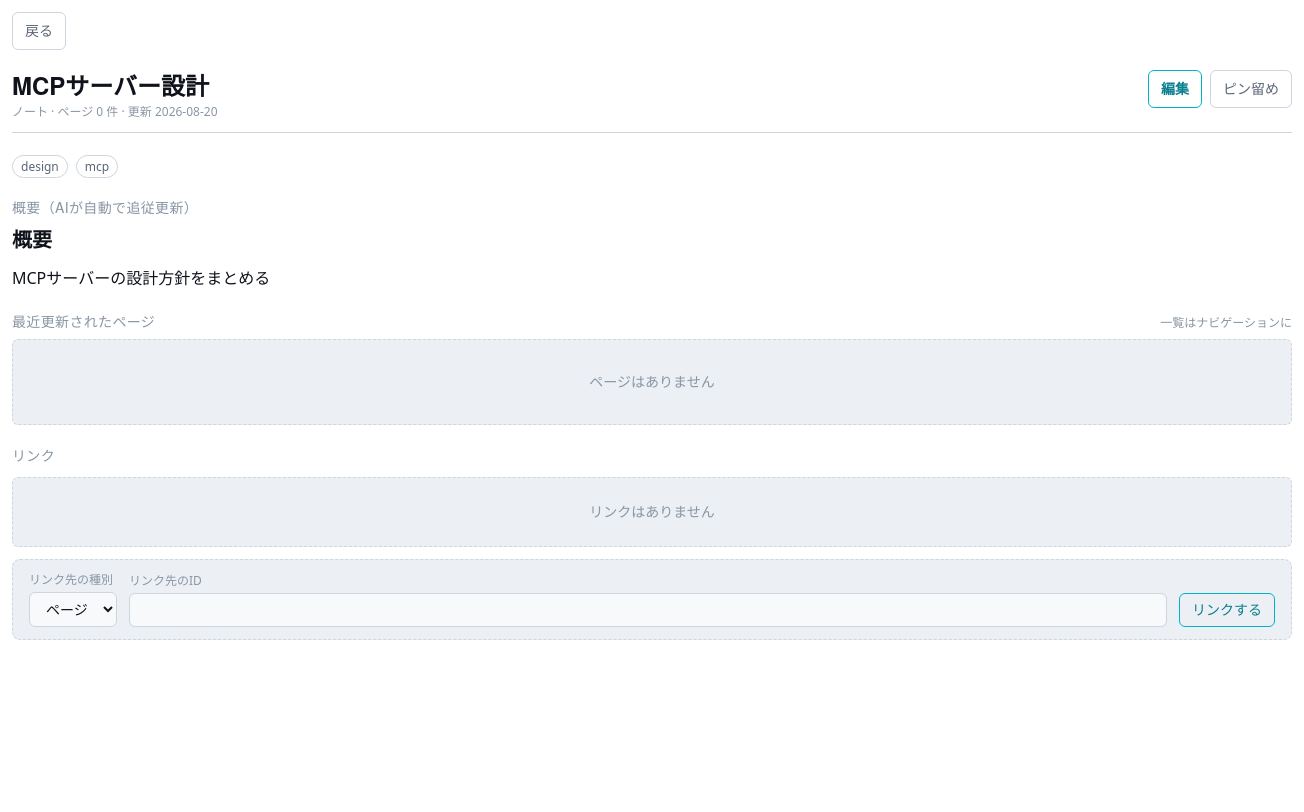
Test case: NotebookDetail › 保存の前に始まった取り直しが後から届いても保存結果を打ち消さない
The image size is (1304, 812).
Step 1. Click the button "編集" → point(1175, 89), box left=1148, top=70, right=1202, bottom=108
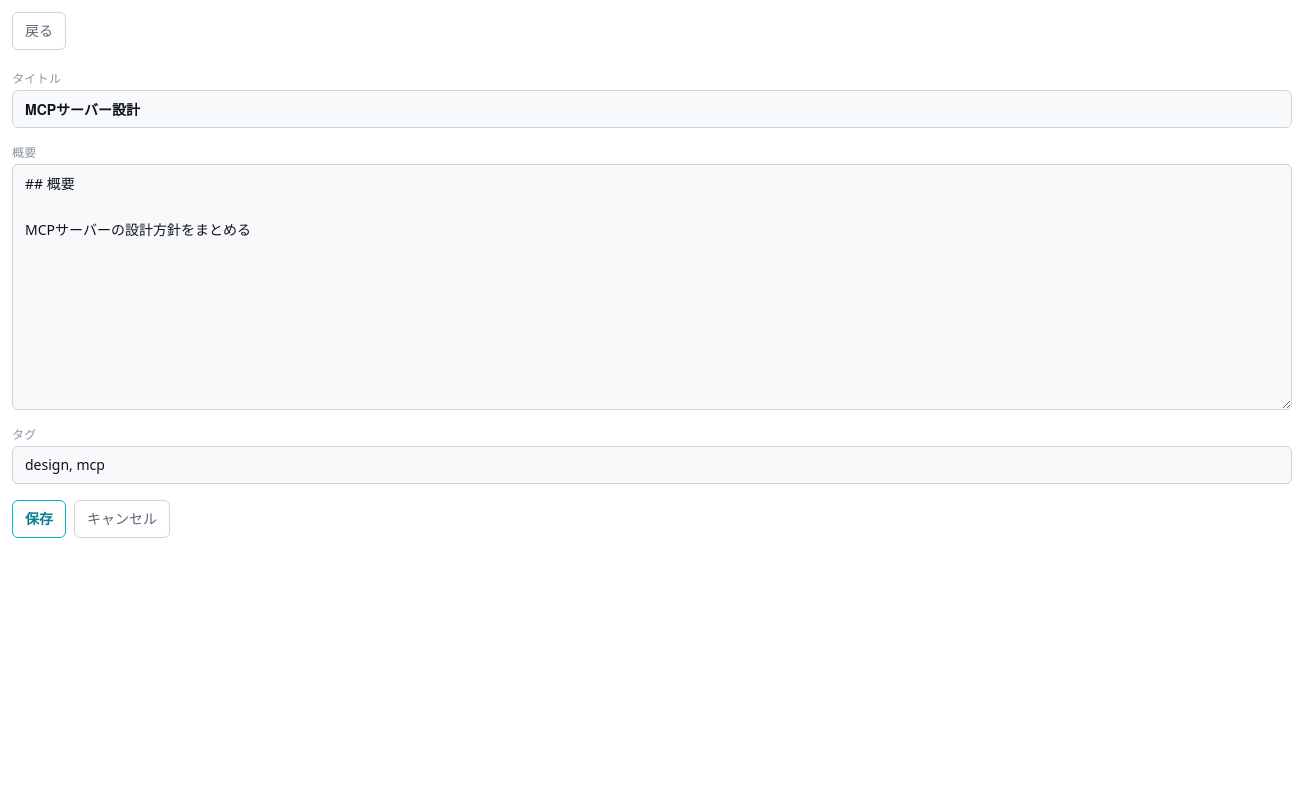
Step 2. Click the button "保存" → point(39, 518), box left=12, top=500, right=66, bottom=538
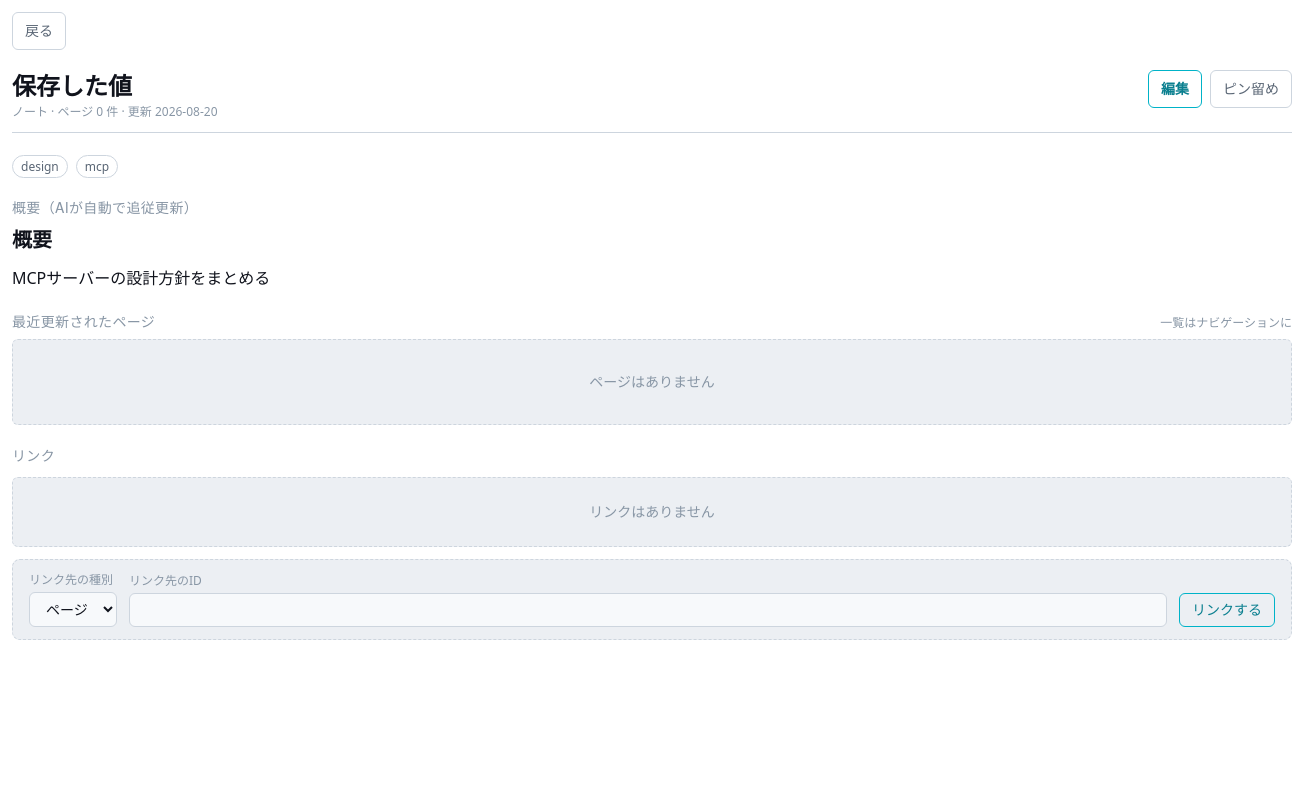
Now the heading "保存した値" is shown, box left=12, top=68, right=132, bottom=102
